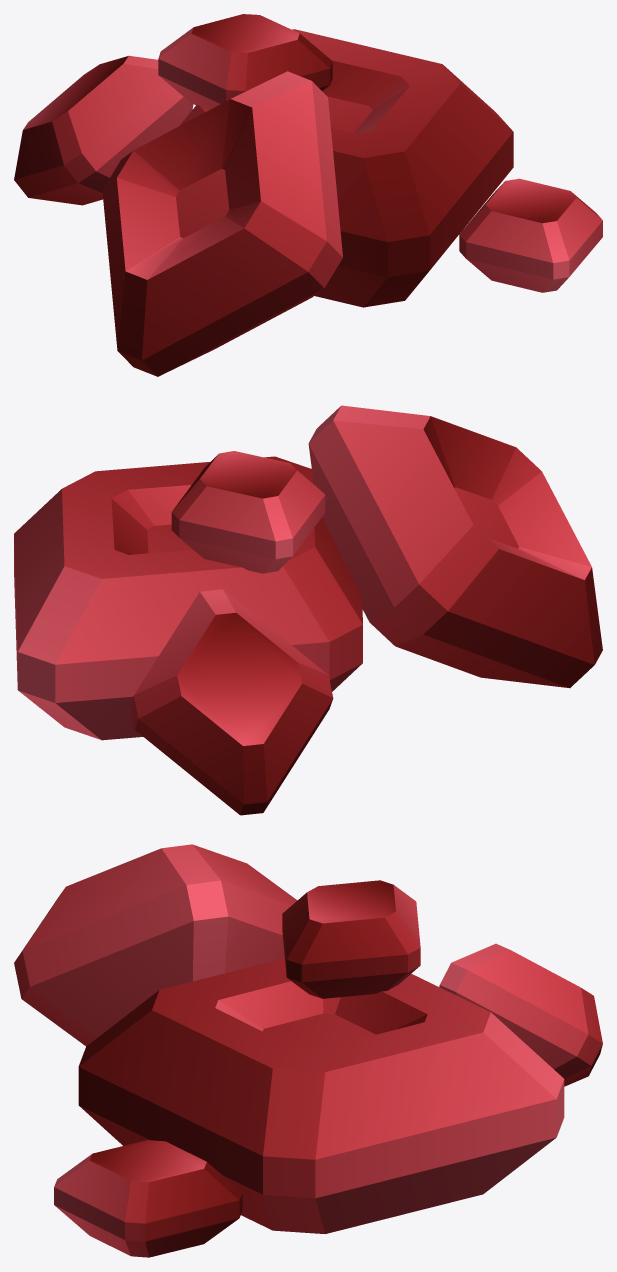
File: Ruby_05.glb
3 views of the same model, one above another, from view 1: azimuth 30°, elevation 25°; view 2: azimuth 150°, elevation 25°; view 3: azimuth 270°, elevation 25° (orthographic). The views are drawn at different scales.
Parts seen in each view (by area): view 1: Ruby_05; view 2: Ruby_05; view 3: Ruby_05.
Boxes of the visible parts, x1,y1,x2,y2 form: Ruby_05: (14, 14, 602, 376); Ruby_05: (14, 405, 602, 815); Ruby_05: (14, 844, 602, 1257).
Size of the model in its own units: 0.6868 by 0.3105 by 0.6734.
Materials: 1 (1 with a texture image).
